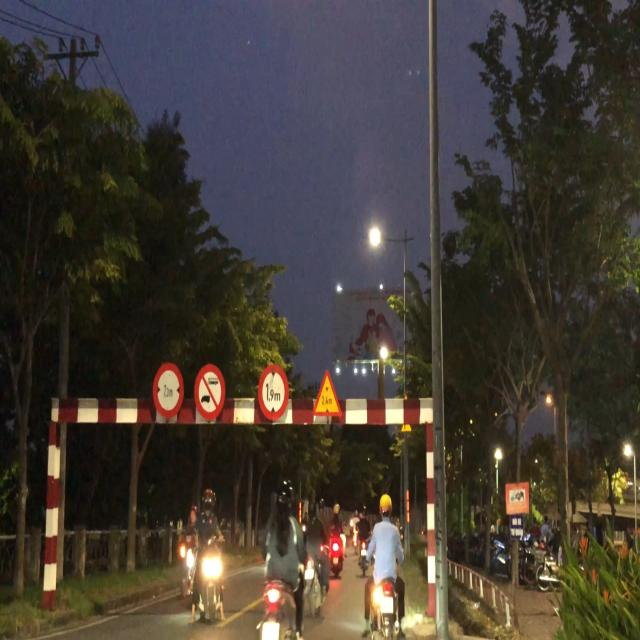Bien bao cam xe oto khach va xe oto tai: (192, 362, 228, 428)
Bien bao chieu cao tinh khong thuc te: (309, 362, 344, 426)
Bien bao han che chieu cao: (256, 361, 291, 424)
